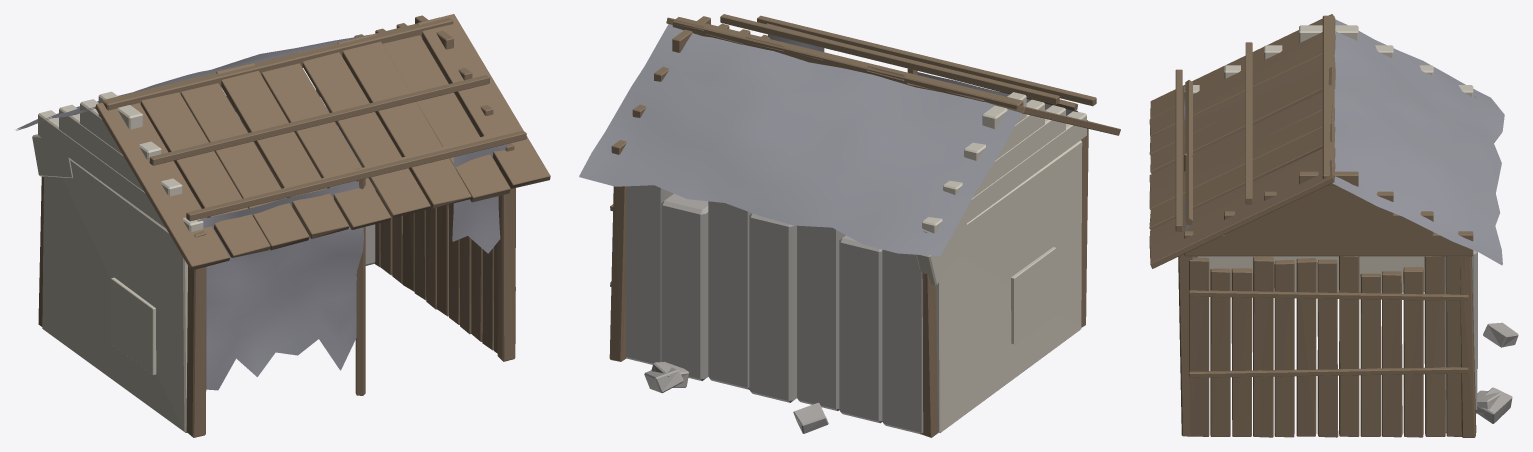
The model's file is hut_patched.glb.
3 renders of one model, left to right at view 1: azimuth 30°, elevation 25°; view 2: azimuth 150°, elevation 25°; view 3: azimuth 270°, elevation 25°, orthographic. The views are drawn at different scales.
Visible parts, largest first — view 1: wood, plaster, cloth, stone; view 2: cloth, stone, plaster, wood; view 3: wood, cloth, plaster, stone.
Boxes of the visible parts, x1,y1,x2,y2 form: wood: (38, 14, 550, 437); plaster: (32, 91, 203, 432); cloth: (16, 34, 507, 390); stone: (199, 89, 375, 265); cloth: (579, 24, 1077, 256); stone: (626, 185, 923, 433); plaster: (916, 92, 1086, 432); wood: (609, 14, 1120, 437); wood: (1149, 14, 1476, 437); cloth: (1183, 19, 1504, 265); plaster: (1184, 25, 1473, 292); stone: (1445, 250, 1518, 433).
Size of the model in its own units: 3.94 by 3.09 by 3.7.
